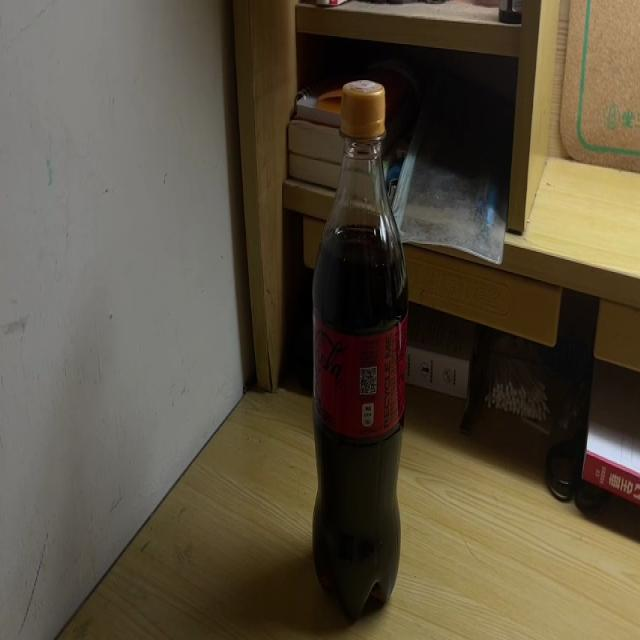Coca-Cola: (313, 82, 408, 626)
